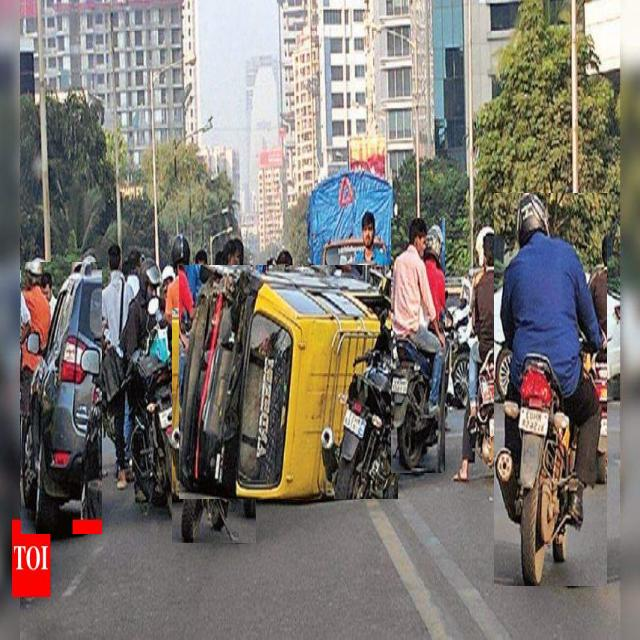accident: (180, 265, 398, 499)
car: (21, 263, 102, 534)
motorcycle: (495, 193, 607, 586), (172, 309, 256, 543), (121, 260, 185, 516), (391, 219, 445, 473), (466, 232, 512, 483)
